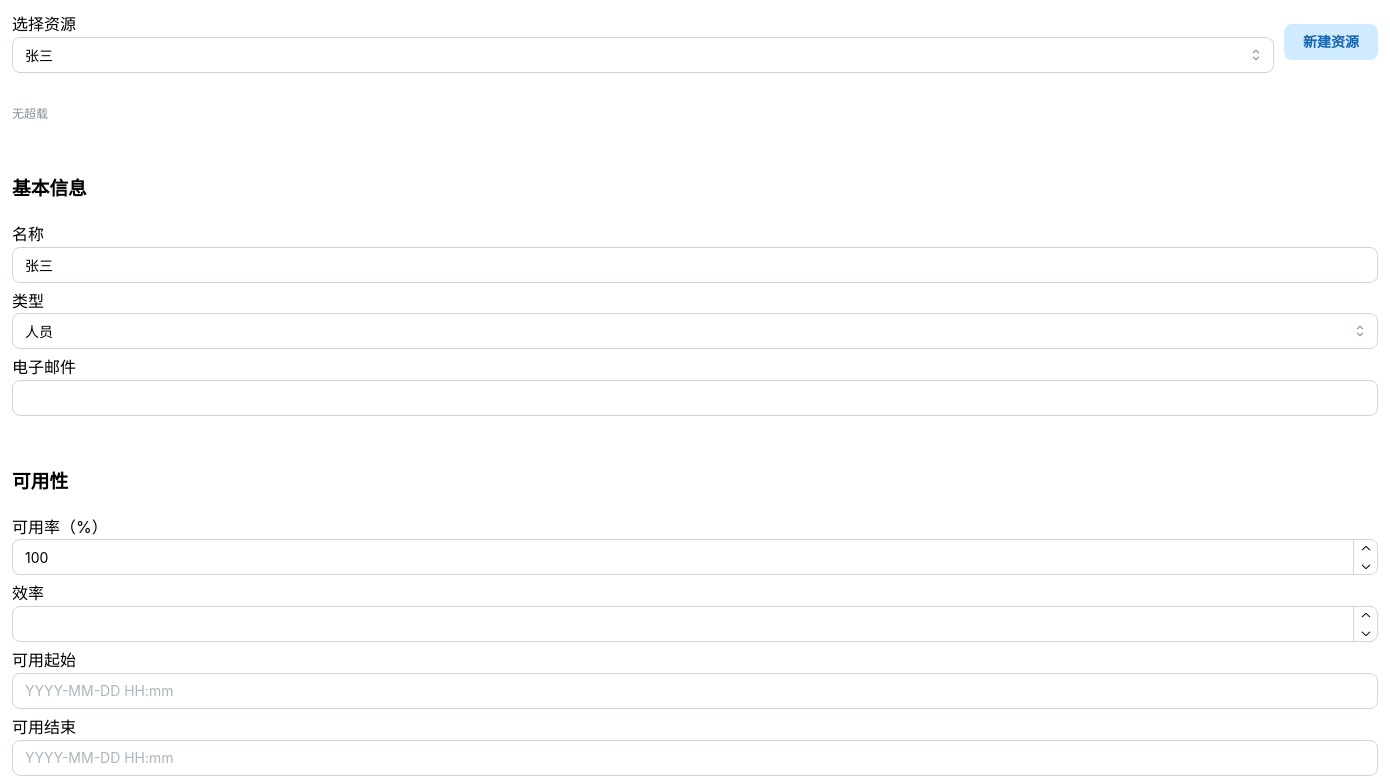
资源面板 › 新建资源后自动选中新资源（面板显示的当前资源名指向新资源）
This screenshot has width=1390, height=780.
Check: the field labelled "名称" holds "张三", box [12,247,1378,283]
Click the button "新建资源": [1331, 42] box [1284,24,1378,60]
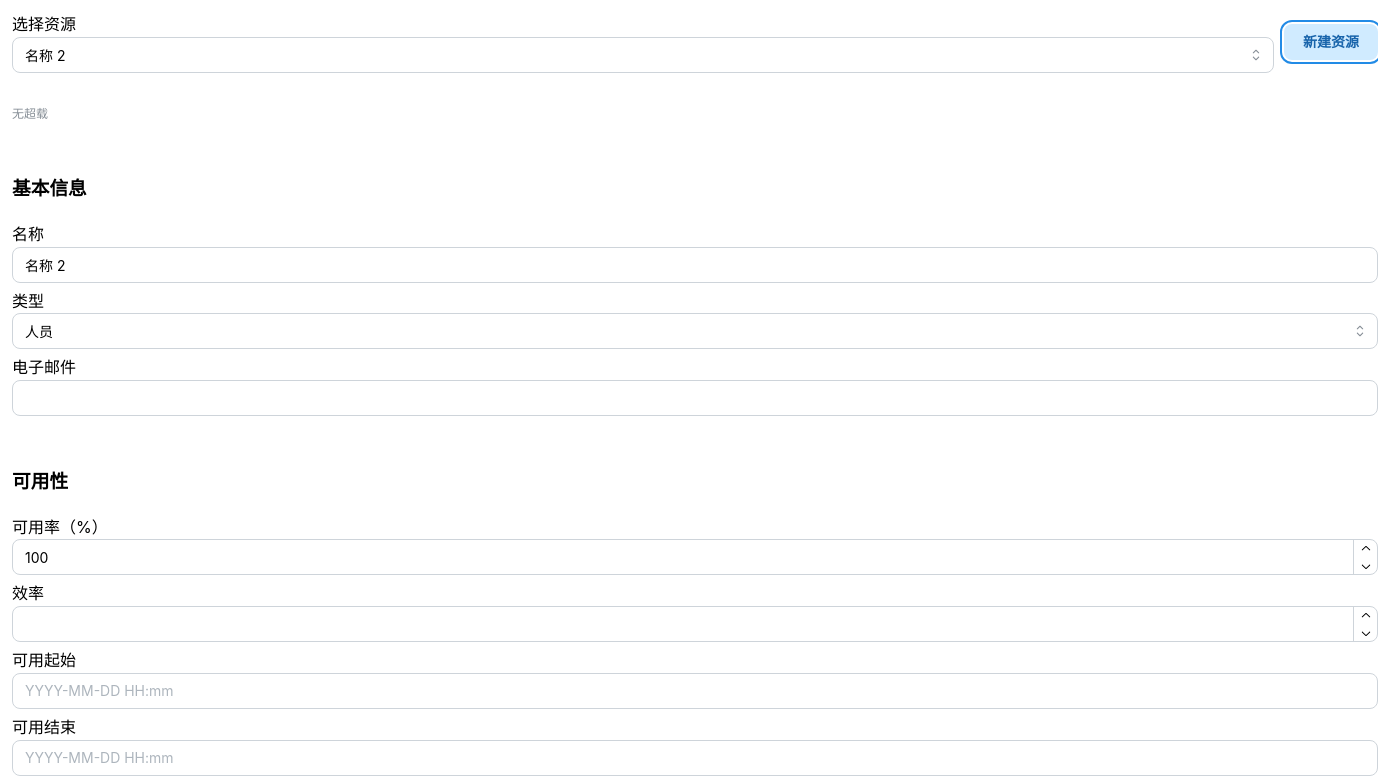
Check: the field labelled "名称" holds "名称 2", box [12,247,1378,283]
